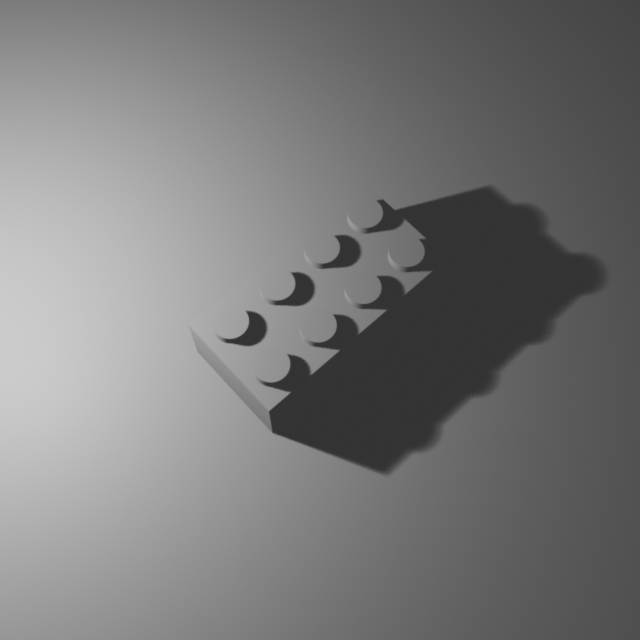lego_2x4: (186, 177, 449, 433)
